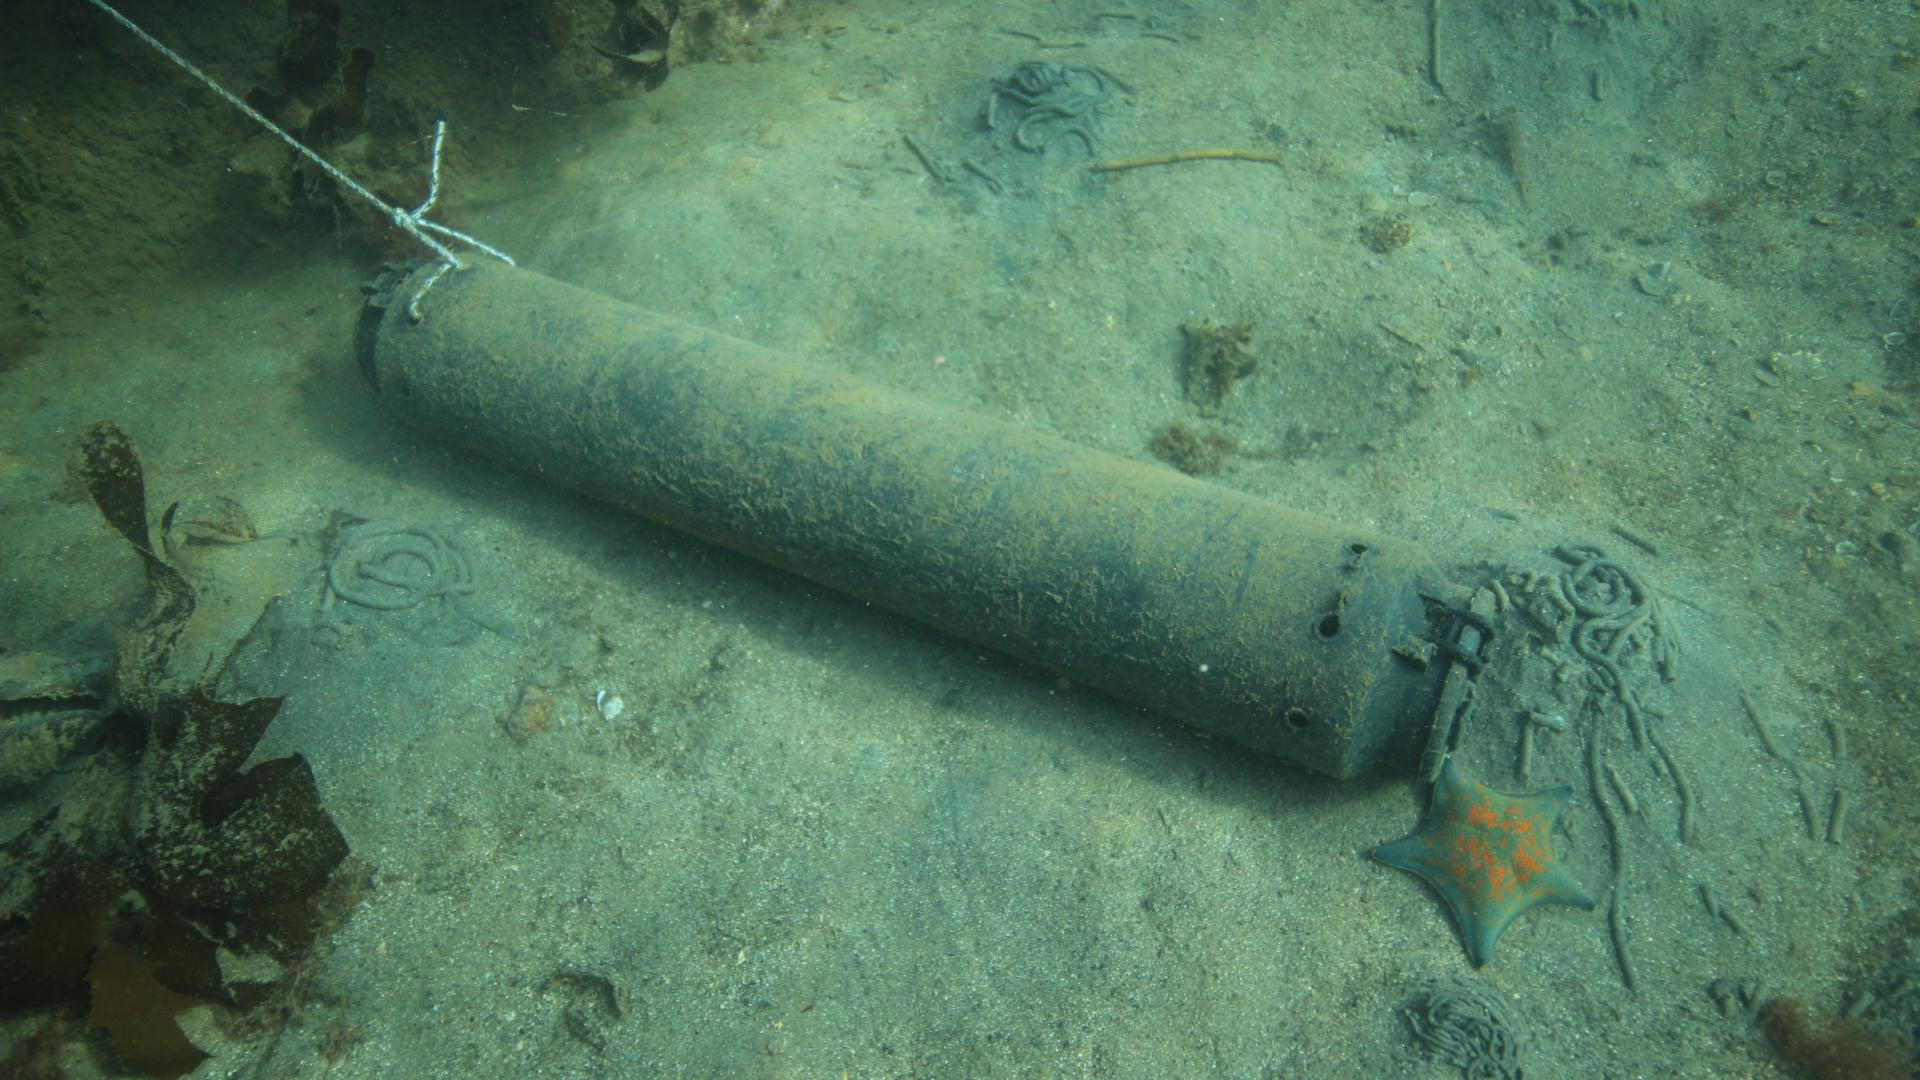eel fish trap: (351, 239, 1513, 787)
rope: (96, 0, 516, 262)
